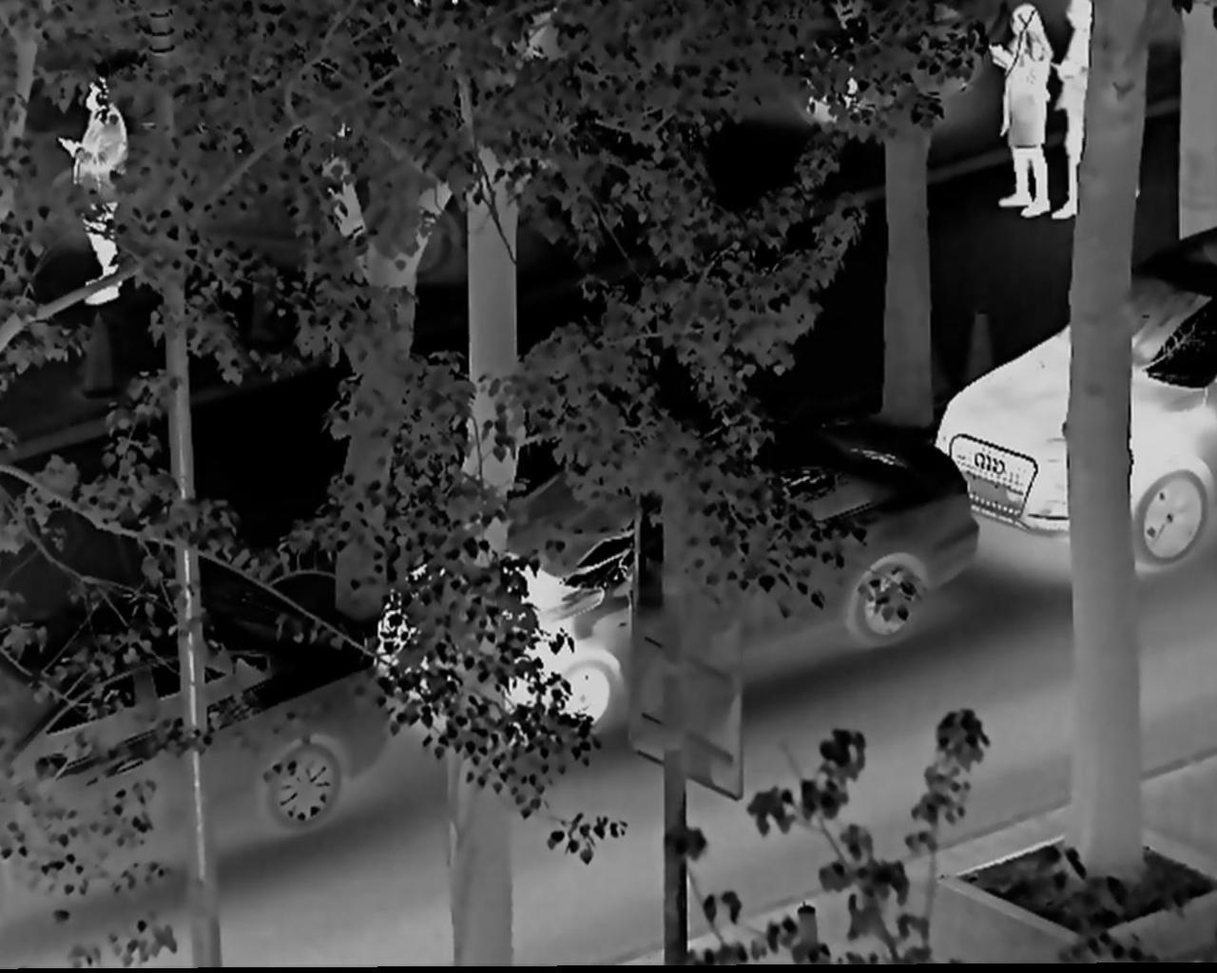person: (48, 72, 139, 309), (976, 5, 1058, 231)
